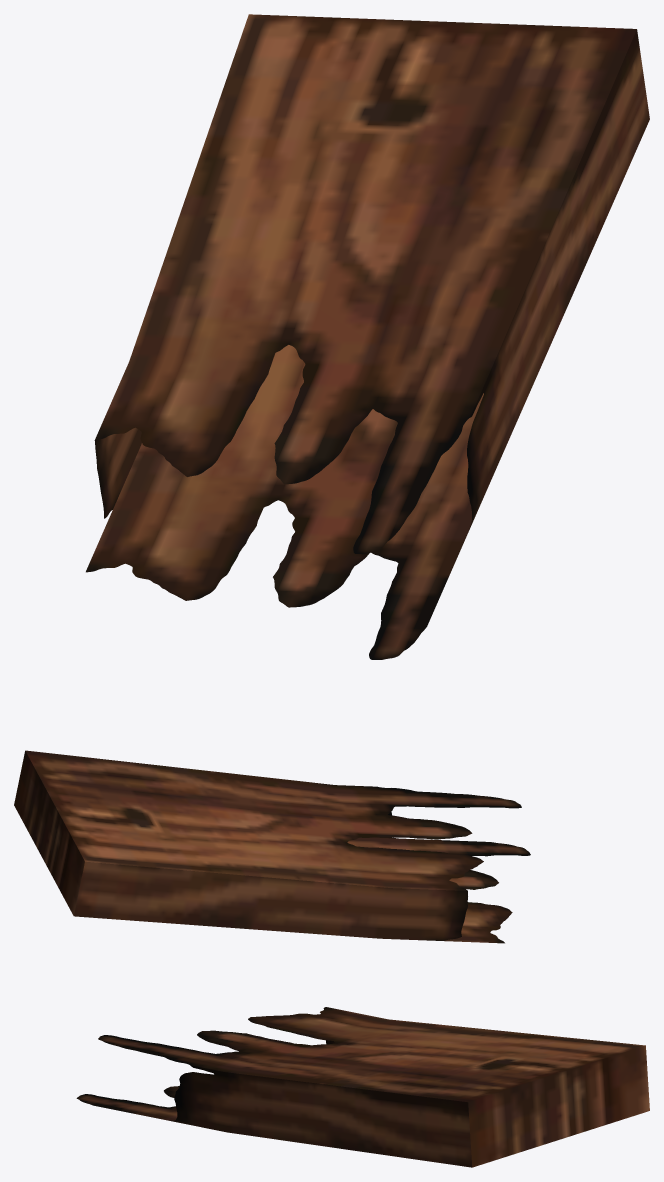
The model's file is ANIMATEDINSTANCES_BOARD_FALL3__BA.fbx.
3 renders of one model, top to bottom at view 1: azimuth 30°, elevation 25°; view 2: azimuth 150°, elevation 25°; view 3: azimuth 270°, elevation 25°, orthographic. The views are drawn at different scales.
Parts seen in each view (by area): view 1: ANIMATEDINSTANCES_BOARD_FALL3__BA; view 2: ANIMATEDINSTANCES_BOARD_FALL3__BA; view 3: ANIMATEDINSTANCES_BOARD_FALL3__BA.
Boxes of the visible parts, x1=… form: ANIMATEDINSTANCES_BOARD_FALL3__BA: x1=86, y1=14, x2=649, y2=659; ANIMATEDINSTANCES_BOARD_FALL3__BA: x1=14, y1=750, x2=530, y2=943; ANIMATEDINSTANCES_BOARD_FALL3__BA: x1=76, y1=1007, x2=649, y2=1167.
Size of the model in its own units: 8779 by 2955 by 8880.
1 material, 1 textured.
